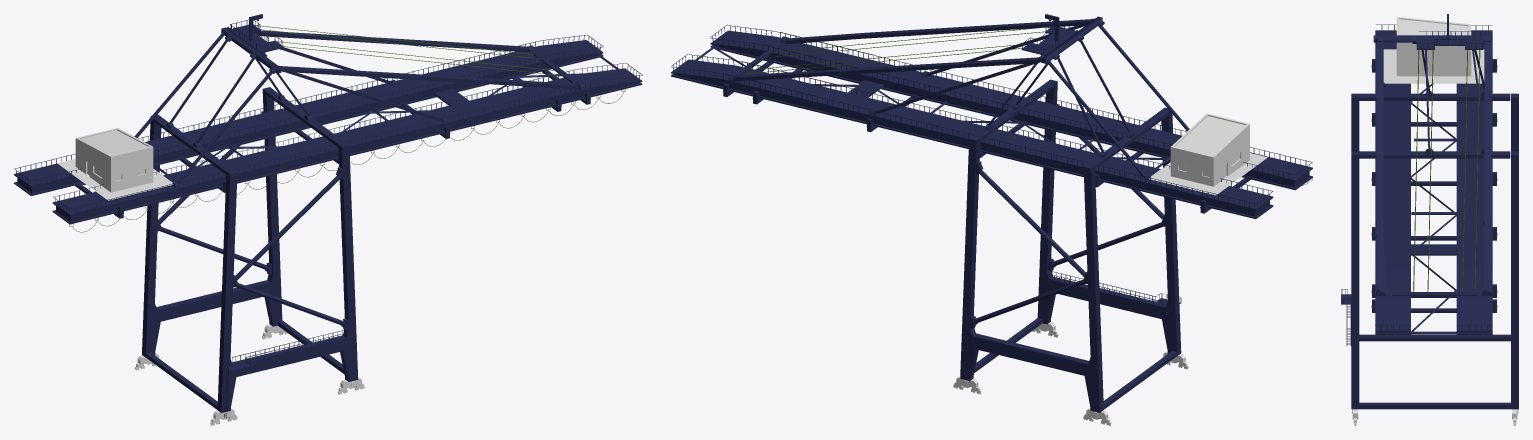
Rendered from CRANE 3.FBX.
3 renders of one model, left to right at view 1: azimuth 30°, elevation 25°; view 2: azimuth 150°, elevation 25°; view 3: azimuth 270°, elevation 25°, orthographic. The views are drawn at different scales.
Parts seen in each view (by area): view 1: Crane_Body001, Crane_Room, Object004; view 2: Crane_Body001, Crane_Room, Object004; view 3: Crane_Body001, Crane_Room, Object004.
Boxes of the visible parts, x1,y1,x2,y2 form: Crane_Body001: [14, 14, 642, 418]; Crane_Room: [57, 128, 173, 200]; Object004: [134, 324, 364, 425]; Crane_Body001: [671, 14, 1312, 412]; Crane_Room: [1149, 113, 1267, 195]; Object004: [953, 322, 1188, 425]; Crane_Body001: [1341, 14, 1518, 409]; Crane_Room: [1383, 17, 1484, 83]; Object004: [1351, 409, 1518, 425].
Size of the model in its own units: 128 by 76.11 by 32.67.
